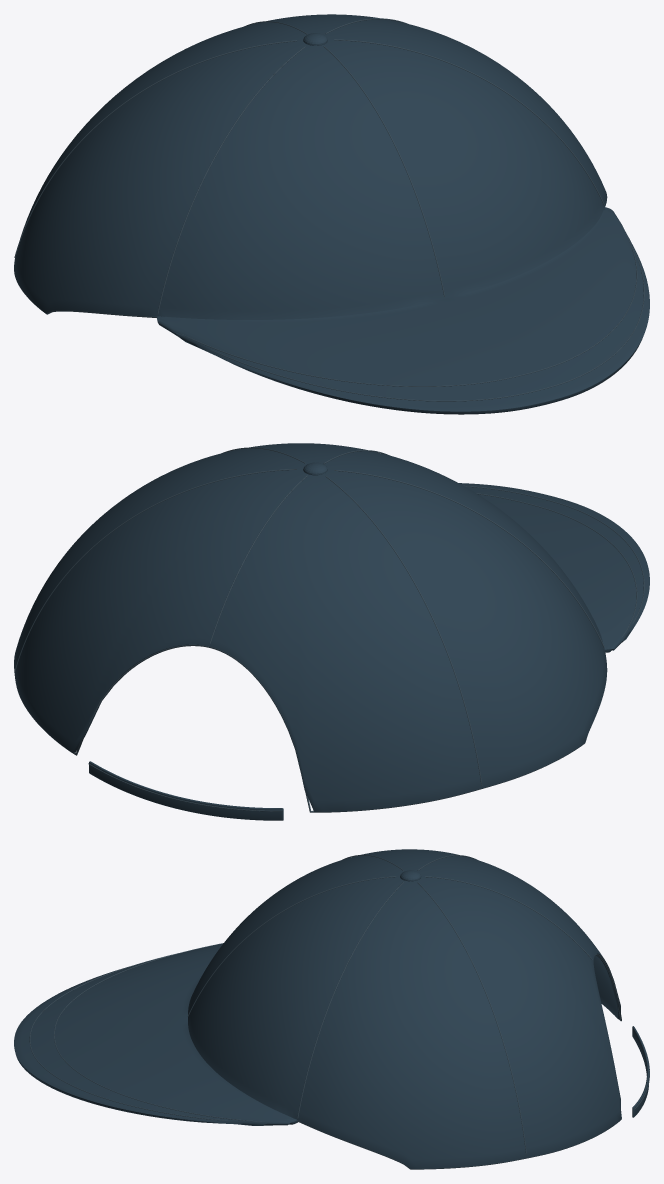
File: Masculine-headgear.glb
3 renders of one model, top to bottom at view 1: azimuth 30°, elevation 25°; view 2: azimuth 150°, elevation 25°; view 3: azimuth 270°, elevation 25°, orthographic. The views are drawn at different scales.
Parts seen in each view (by area): view 1: Cap / sewn crown and curved bill212, Cap / bill stitch212 0.91 export, Cap / bill stitch212 0.77 export, Cap / panel seam212 4 export; view 2: Cap / sewn crown and curved bill212, Cap / rear adjustment strap212, Cap / sewn lower edge212 export, Cap / panel seam212 2 export, Cap / panel seam212 4 export; view 3: Cap / sewn crown and curved bill212, Cap / sewn lower edge212 export, Cap / bill stitch212 0.77 export, Cap / bill stitch212 0.91 export, Cap / rear adjustment strap212.
Boxes of the visible parts, x1,y1,x2,y2 form: Cap / sewn crown and curved bill212: [14, 14, 649, 414]; Cap / bill stitch212 0.91 export: [211, 247, 644, 401]; Cap / bill stitch212 0.77 export: [180, 225, 637, 386]; Cap / panel seam212 4 export: [14, 40, 296, 257]; Cap / sewn crown and curved bill212: [14, 443, 649, 811]; Cap / rear adjustment strap212: [89, 761, 283, 820]; Cap / sewn lower edge212 export: [49, 644, 584, 812]; Cap / panel seam212 2 export: [14, 469, 296, 671]; Cap / panel seam212 4 export: [325, 476, 482, 785]; Cap / sewn crown and curved bill212: [14, 849, 621, 1168]; Cap / sewn lower edge212 export: [297, 954, 621, 1169]; Cap / bill stitch212 0.77 export: [54, 943, 264, 1121]; Cap / bill stitch212 0.91 export: [29, 954, 227, 1120]; Cap / rear adjustment strap212: [632, 1026, 649, 1117].
Size of the model in its own units: 0.9999 by 0.431 by 1.18.
